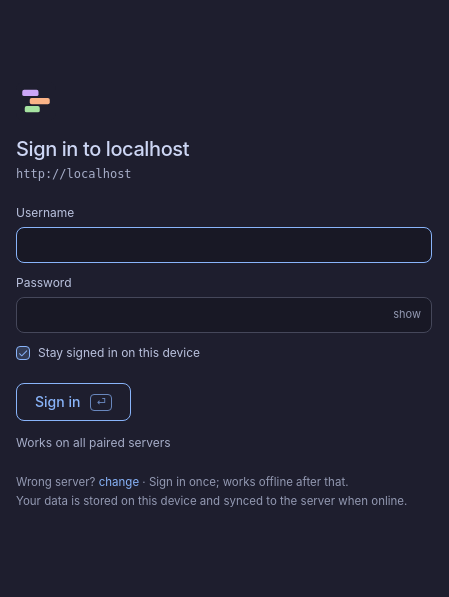
Test: LoginPage (mocha) › 409 account_conflict: the conflict banner, not the wrong-password error; stays on login
Type "wochap" into the field labelled "Username" at (224, 245), box [17,228,431,262]
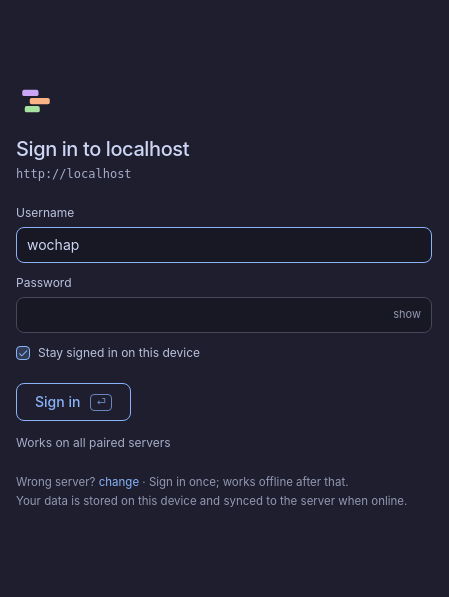
Type "secret" into the password field labelled "Password" at (196, 314), box [17,298,375,332]
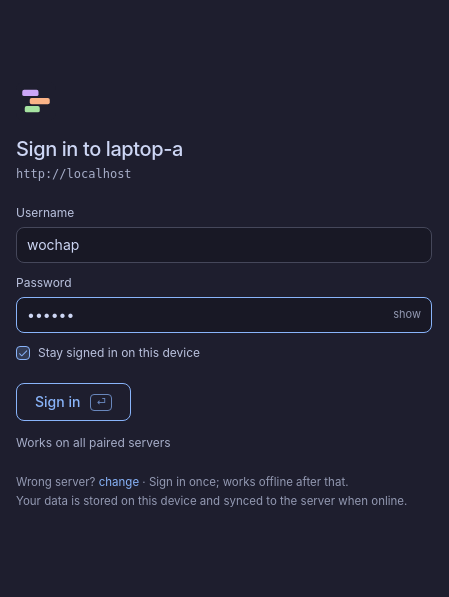
Click the button "Sign in ⏎" at (74, 402), box [16,383,131,421]
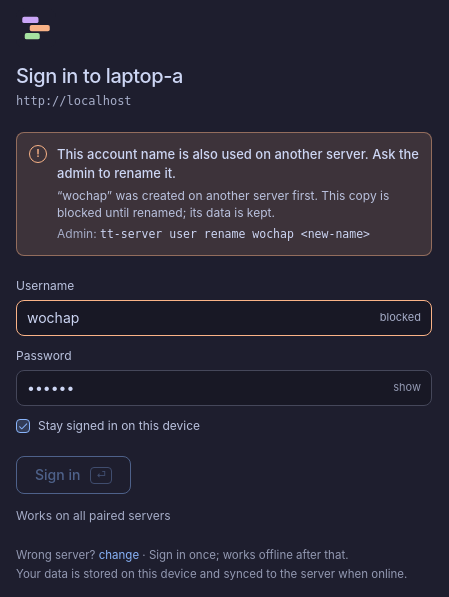
Result: the message with test id "login-conflict" shows "This account name is also used on another server. Ask the admin to rename it." at [57,146,419,181]
Result: the message with test id "login-conflict" shows "tt-server user rename wochap <new-name>" at [16,132,432,256]
Result: the button "Sign in ⏎" is disabled at [16,456,131,494]
Type "2" into the field labelled "Username" at (189, 318), box [17,301,362,335]
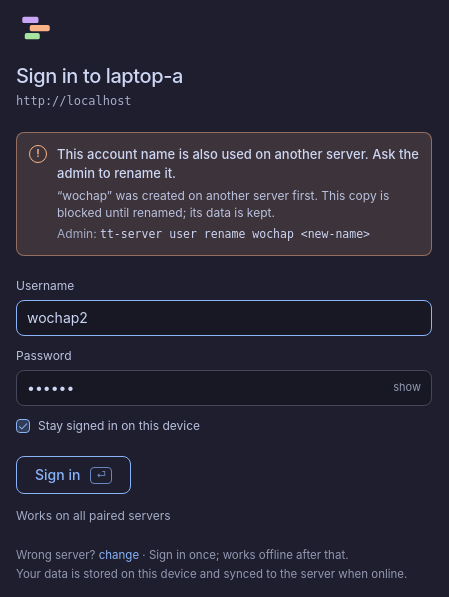
Result: the button "Sign in ⏎" is enabled at [16,456,131,494]
